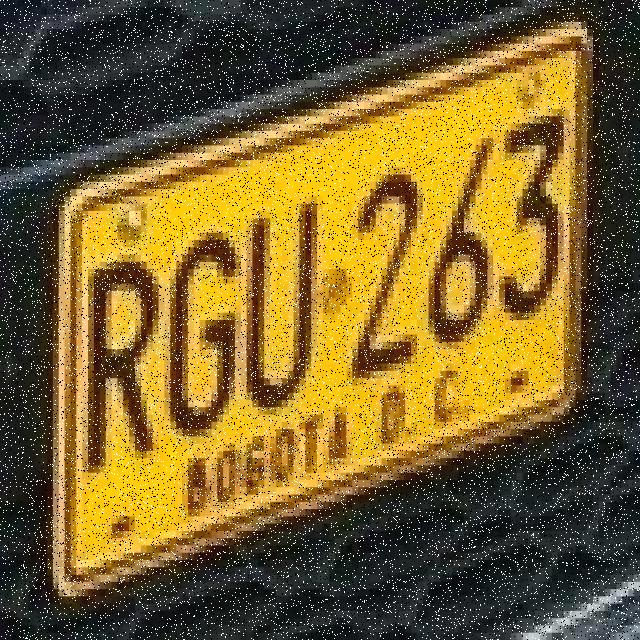licenseplate: (34, 16, 628, 602)
